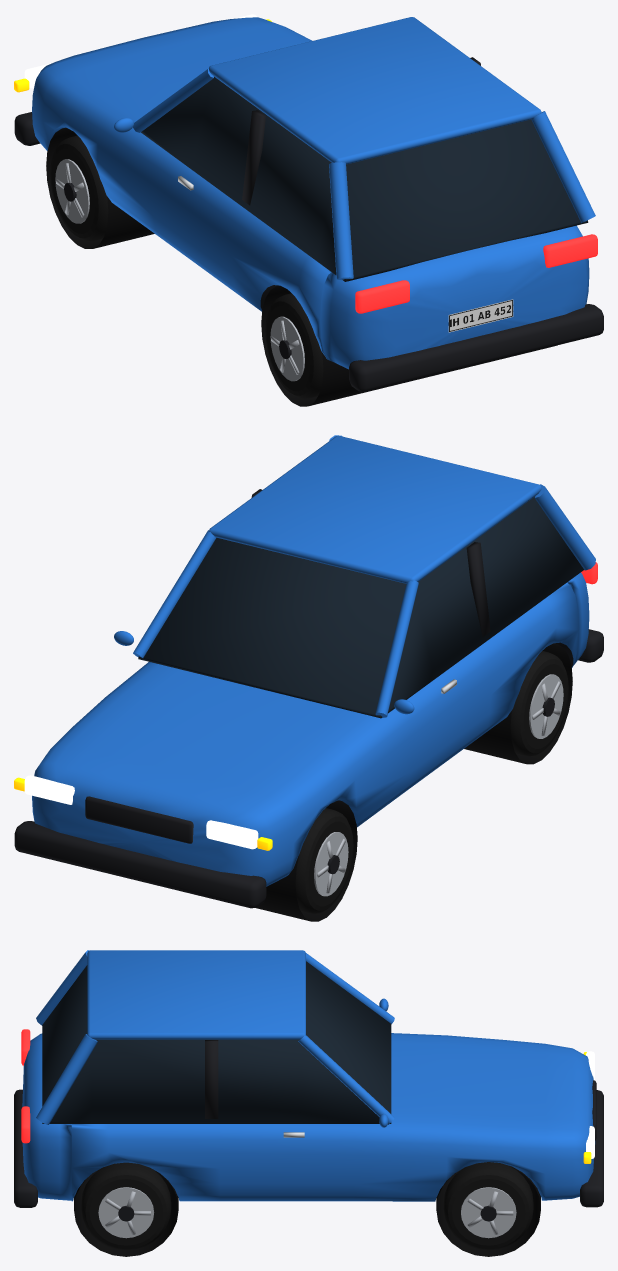
Rendered from hatch.glb.
The picture shows the model from 3 angles, top to bottom: view 1: azimuth 30°, elevation 25°; view 2: azimuth 150°, elevation 25°; view 3: azimuth 270°, elevation 25°; orthographic projection. The views are drawn at different scales.
Parts seen in each view (by area): view 1: body, car_Glass, car_CarPaint, car_Trim, car_Rubber, car_ArchLiner, car_RimSilver, car_TailLight, car_PlateMH; view 2: body, car_Glass, car_CarPaint, car_Trim, car_Rubber, car_ArchLiner, car_RimSilver, car_HeadLight; view 3: body, car_Glass, car_CarPaint, car_Rubber, car_Trim, car_RimSilver, car_ArchLiner, car_TailLight.
Part boxes in pixels (box(x1,y1,x2,y2)): body: box(32, 17, 589, 369); car_Glass: box(141, 76, 588, 281); car_CarPaint: box(114, 17, 595, 280); car_Trim: box(14, 57, 603, 392); car_Rubber: box(50, 135, 323, 398); car_ArchLiner: box(46, 127, 557, 406); car_RimSilver: box(55, 159, 304, 381); car_TailLight: box(355, 234, 597, 313); car_PlateMH: box(448, 299, 513, 332); body: box(32, 572, 589, 886); car_Glass: box(138, 496, 583, 718); car_CarPaint: box(114, 435, 595, 717); car_Trim: box(14, 489, 603, 908); car_Rubber: box(295, 651, 568, 913); car_ArchLiner: box(255, 643, 572, 921); car_RimSilver: box(314, 674, 563, 896); car_HeadLight: box(24, 775, 258, 849); body: box(22, 1033, 595, 1201); car_Glass: box(42, 961, 391, 1123); car_CarPaint: box(36, 950, 394, 1127); car_Rubber: box(81, 1162, 533, 1250); car_Trim: box(14, 1040, 603, 1221); car_RimSilver: box(98, 1187, 516, 1238); car_ArchLiner: box(74, 1162, 540, 1256); car_TailLight: box(21, 1029, 30, 1143).
Bounding box in the file's own units: 1.95 × 1.58 × 3.94.
11 materials, 1 textured.
